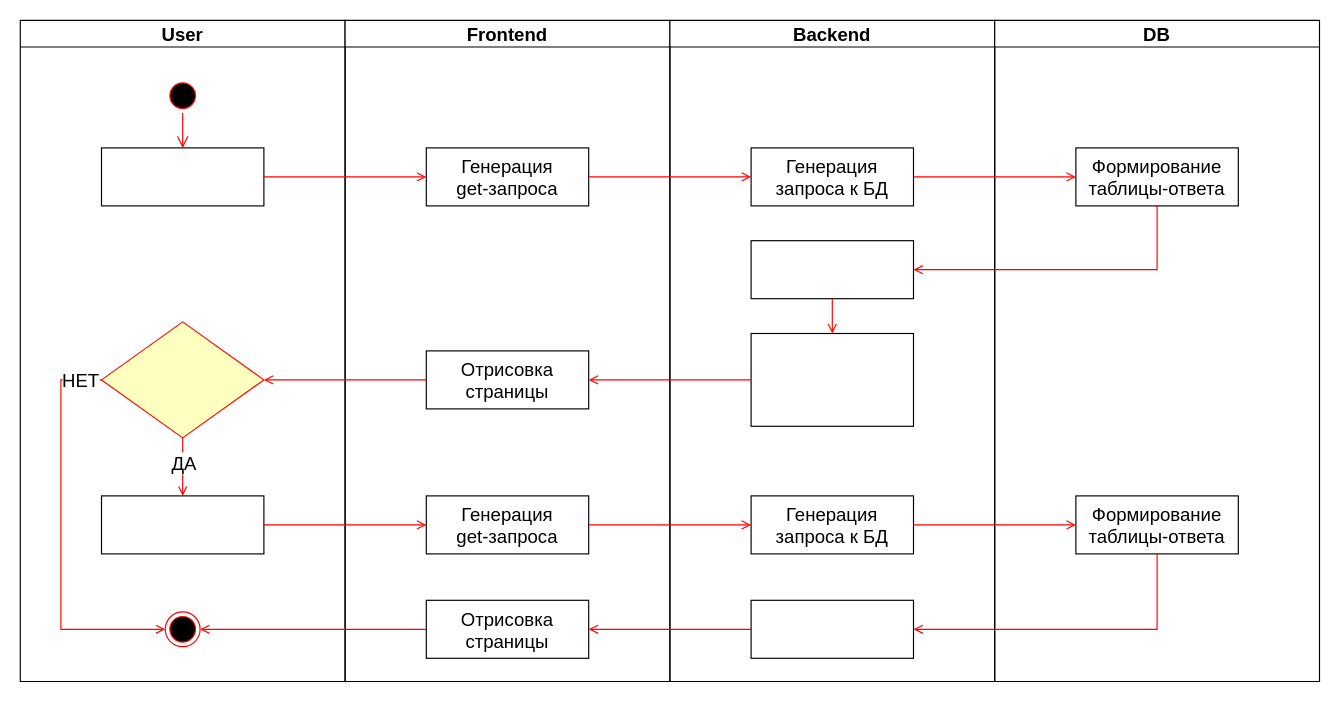
Image size: 1340x702. Some labels were removed from this diagram. Here are the shapes that lost their labels. From the top down, the centre of each, then its label:
the point at 182,176: Ввод поискового запроса
the point at 831,269: Сортировка данных
the point at 182,379: Найден интересующий товар?
the point at 831,379: Генерация страницы результатов поиска
the point at 182,524: Выбор товара из списка
the point at 831,628: Генерация страницы товара
